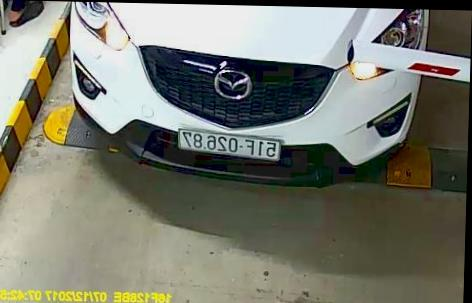License_Plate: (171, 126, 286, 161)
